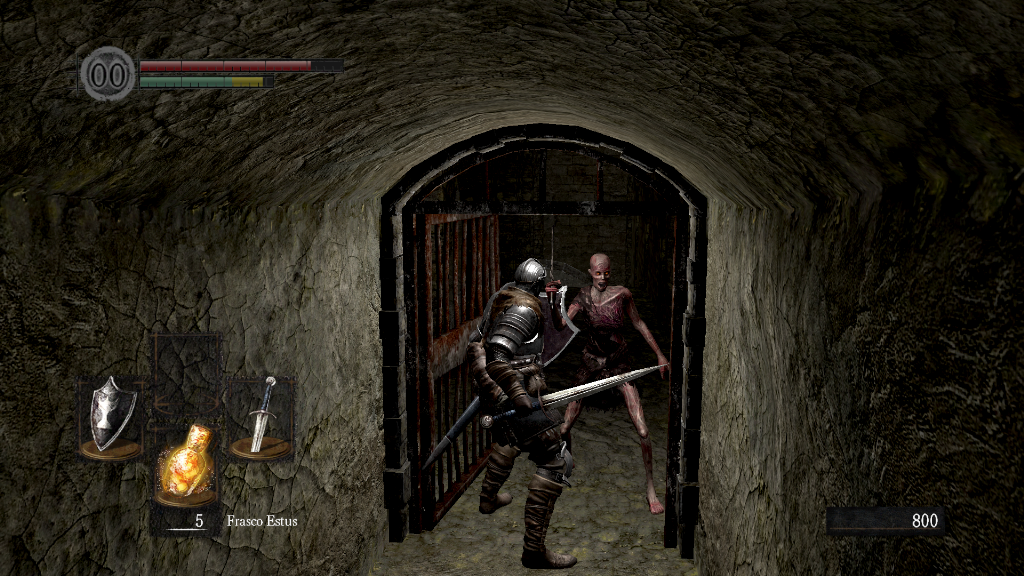health: (138, 58, 343, 71)
hollow: (549, 250, 668, 515)
humanity: (80, 45, 136, 102)
player: (466, 256, 670, 569)
souls: (825, 506, 945, 536)
stamina: (138, 74, 274, 88)
